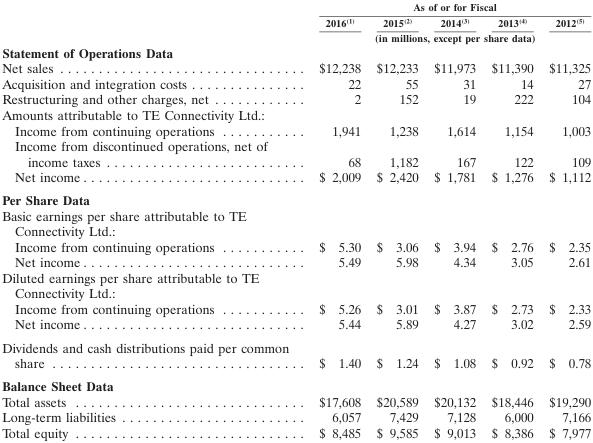table: (1, 0, 590, 440)
table column: (1, 0, 303, 440), (303, 0, 368, 440), (425, 0, 483, 440), (368, 0, 425, 440), (483, 0, 540, 440), (540, 0, 590, 440)
table column header: (1, 0, 590, 44)
table projected row header: (1, 207, 590, 238), (1, 269, 590, 300), (1, 188, 590, 207), (1, 374, 590, 393), (1, 44, 590, 60), (1, 106, 590, 122)
table row: (1, 335, 590, 374), (1, 137, 590, 168), (1, 207, 590, 238), (1, 269, 590, 300), (1, 168, 590, 188), (1, 315, 590, 335), (1, 188, 590, 207), (1, 374, 590, 393), (1, 14, 590, 30), (1, 44, 590, 60), (1, 75, 590, 91), (1, 106, 590, 122), (1, 253, 590, 269), (1, 393, 590, 409), (1, 424, 590, 440), (1, 60, 590, 75), (1, 91, 590, 106), (1, 122, 590, 137), (1, 238, 590, 253), (1, 300, 590, 315), (1, 409, 590, 424), (1, 0, 590, 14), (1, 30, 590, 44)
table spanning cell: (303, 0, 590, 14), (303, 30, 590, 44)
